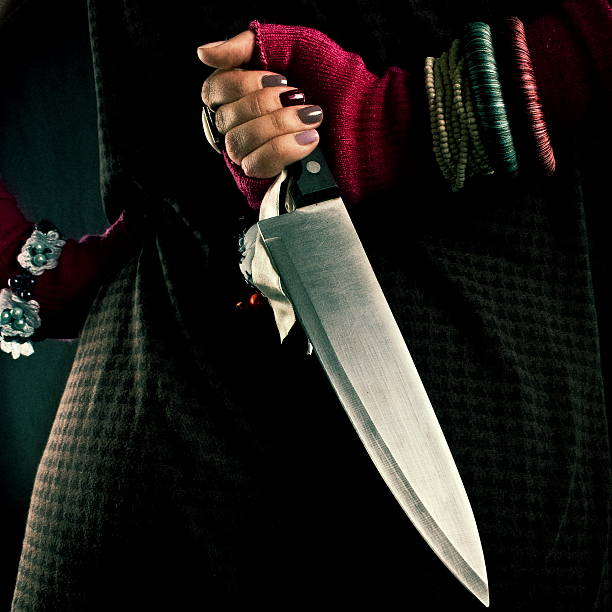knife: (252, 143, 498, 609)
